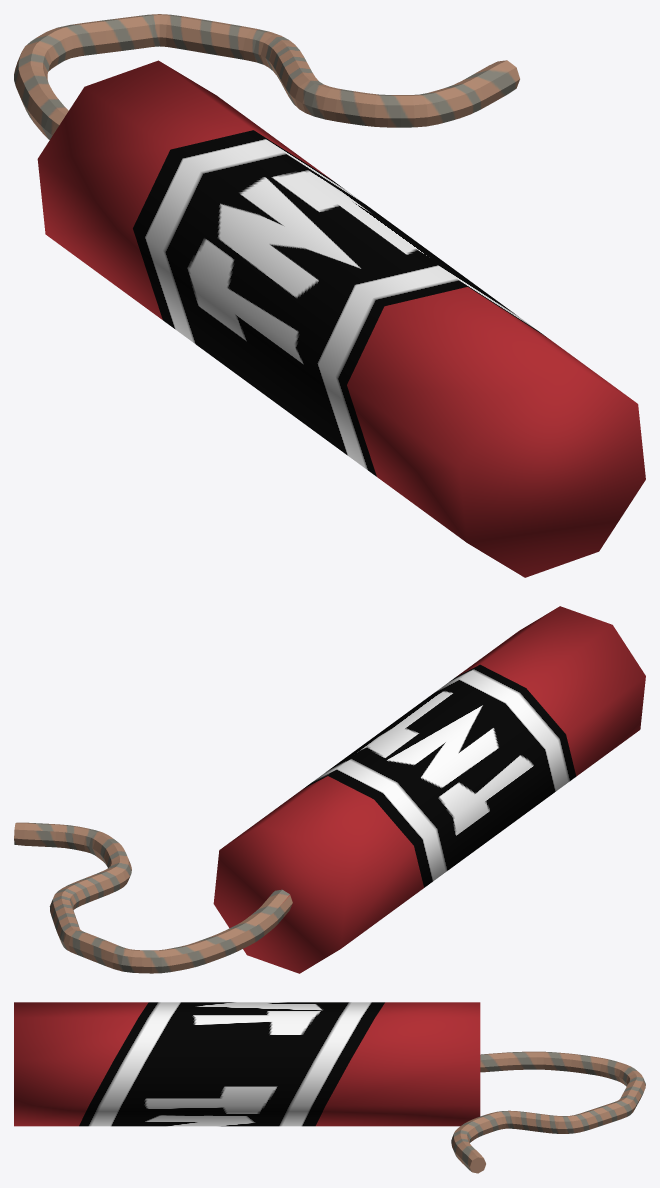
Rendered from GiftTNT.fbx.
3 renders of one model, top to bottom at view 1: azimuth 30°, elevation 25°; view 2: azimuth 150°, elevation 25°; view 3: azimuth 270°, elevation 25°, orthographic. The views are drawn at different scales.
Visible parts, largest first — view 1: TNT; view 2: TNT; view 3: TNT.
Part boxes in pixels (<box>): TNT: <box>14,14,645,577</box>; TNT: <box>14,606,645,973</box>; TNT: <box>14,1002,645,1173</box>.
Bounding box in the file's own units: 128 × 24.09 × 61.06.
Materials: 1 (1 with a texture image).
